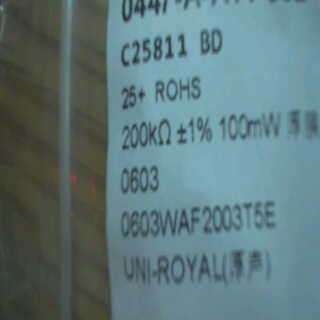200kR: (115, 116, 174, 156)
